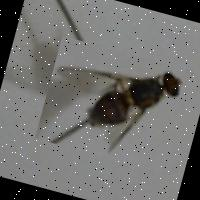Oriental-fruit-fly: (34, 36, 194, 174)
